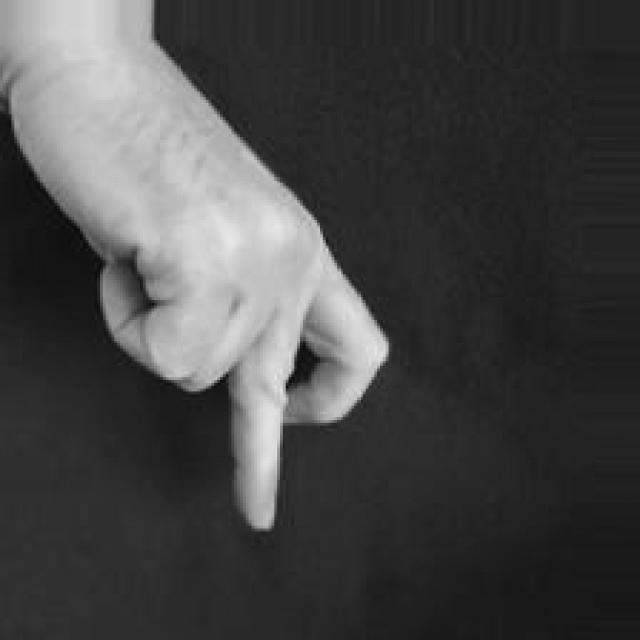P: (17, 41, 395, 536)
